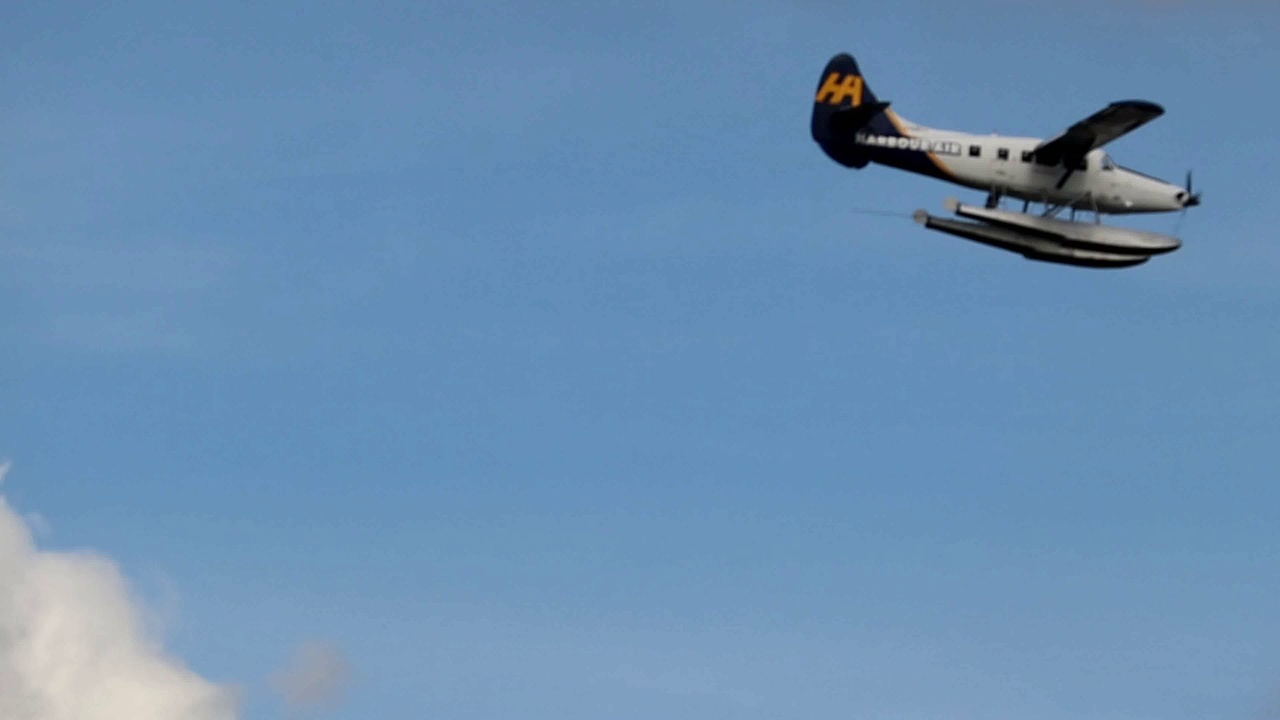plane: (806, 51, 1202, 272)
